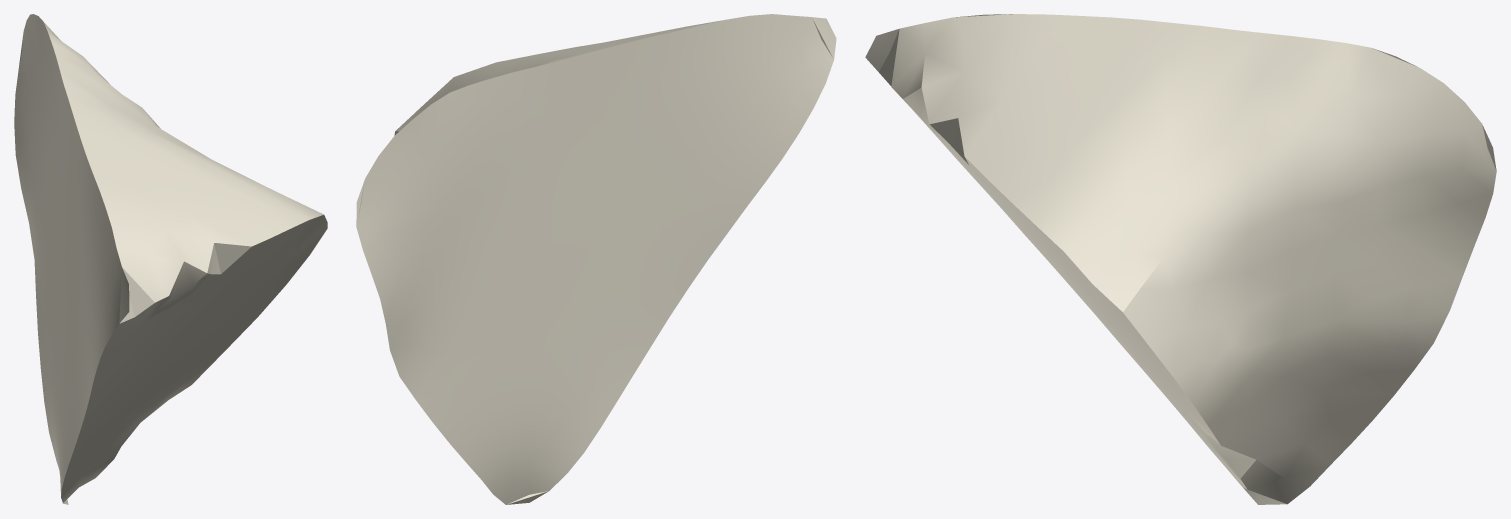
File: fma16329_mm2371.glb
3 renders of one model, left to right at view 1: azimuth 30°, elevation 25°; view 2: azimuth 150°, elevation 25°; view 3: azimuth 270°, elevation 25°, orthographic. The views are drawn at different scales.
Visible parts, largest first — view 1: FMA16329_MM2371; view 2: FMA16329_MM2371; view 3: FMA16329_MM2371.
Boxes of the visible parts, x1,y1,x2,y2 form: FMA16329_MM2371: (14, 14, 327, 504); FMA16329_MM2371: (356, 14, 836, 504); FMA16329_MM2371: (865, 14, 1496, 504).
Bounding box in the file's own units: 0.00556 × 0.00724 × 0.00877.
